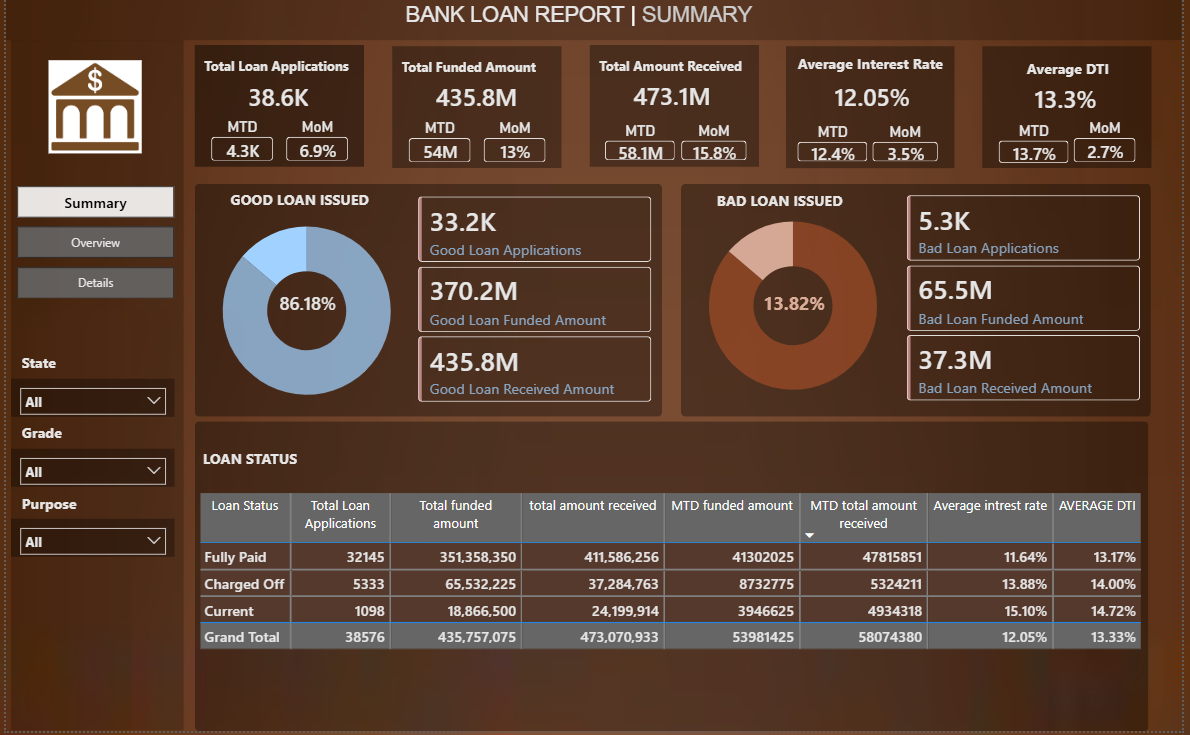

This screenshot's page, from the dashboard's own definition file:
{"tool":"powerbi","page":{"name":"Summary","canvas":[1311,821],"ordinal":0},"visuals":[{"type":"shape","box":[0,0,1311.3,50.6],"z":0},{"type":"shape","box":[5.6,50.6,192.5,770.2],"z":1000},{"type":"textbox","box":[441.3,0,446.9,60.4],"z":2000},{"type":"group","id":"g1","title":"Group 1","box":[210.8,56.2,189.7,136.3],"z":3000},{"type":"shape","box":[210.8,56.2,188.9,135.8],"z":3000,"group":"g1"},{"type":"shape","box":[650.7,56.2,188.9,135.8],"z":3000,"group":"g3"},{"type":"shape","box":[431.5,57.6,188.9,135.8],"z":3000,"group":"g2"},{"type":"shape","box":[870,57.6,188.3,136.3],"z":3000,"group":"g4"},{"type":"shape","box":[1089.2,57.6,188.9,135.8],"z":3000,"group":"g5"},{"type":"group","id":"g2","title":"Group 1","box":[431.5,57.6,188.3,136.3],"z":4000},{"type":"cardVisual","fields":{"Data":["bank_loan.total amount received"]},"box":[669.8,74.2,156,73.1],"z":4000,"group":"g3"},{"type":"cardVisual","fields":{"Data":["bank_loan.Total funded amount"]},"box":[450.6,75.6,156,73.1],"z":4000,"group":"g2"},{"type":"cardVisual","fields":{"Data":["bank_loan.Average intrest rate"]},"box":[895.3,76.4,156,73.1],"z":4000,"group":"g4"},{"type":"cardVisual","fields":{"Data":["bank_loan.AVERAGE DTI"]},"box":[1118.4,80.6,129.3,67.5],"z":4000,"group":"g5"},{"type":"cardVisual","fields":{"Data":["bank_loan.Total Loan Applications"]},"box":[241.3,81.1,129.3,61.8],"z":4000,"group":"g1"},{"type":"textbox","box":[874.1,60.1,179.9,32.3],"z":5000,"group":"g4"},{"type":"textbox","box":[216,64.2,179.9,32.3],"z":5000,"group":"g1"},{"type":"textbox","box":[655.9,64.2,179.9,32.3],"z":5000,"group":"g3"},{"type":"textbox","box":[436.7,65.6,179.9,32.3],"z":5000,"group":"g2"},{"type":"textbox","box":[1094.4,65.6,179.9,32.3],"z":5000,"group":"g5"},{"type":"shape","box":[210.8,210.8,521.4,260],"z":5000},{"type":"cardVisual","title":"MTD","fields":{"Data":["bank_loan.MTD Loan Applications"]},"box":[221.9,136.4,84,55.6],"z":6000,"group":"g1"},{"type":"cardVisual","title":"MTD","fields":{"Data":["bank_loan.MTD funded amount"]},"box":[442.6,137.8,84,55.6],"z":6000,"group":"g2"},{"type":"cardVisual","title":"MTD","fields":{"Data":["bank_loan.MTD AVG DTI"]},"box":[1100.1,141.1,92.8,53.4],"z":6000,"group":"g5"},{"type":"cardVisual","title":"MTD","fields":{"Data":["bank_loan.MTD total amount received"]},"box":[660.2,141.6,92.8,50.6],"z":6000,"group":"g3"},{"type":"cardVisual","title":"MTD","fields":{"Data":["bank_loan.MTD avg int rate"]},"box":[875.6,143,92.8,50.6],"z":6000,"group":"g4"},{"type":"textbox","box":[12.6,393.5,50.6,32.3],"z":6000},{"type":"cardVisual","title":"MoM","fields":{"Data":["bank_loan.MOM Loan Applications"]},"box":[305.9,136.4,84,55.6],"z":7000,"group":"g1"},{"type":"cardVisual","title":"MoM","fields":{"Data":["bank_loan.MOM total funded amount"]},"box":[526.6,137.8,84,55.6],"z":7000,"group":"g2"},{"type":"cardVisual","title":"MoM","fields":{"Data":["bank_loan.MOM avg DTI"]},"box":[1184.3,137.8,84,55.6],"z":7000,"group":"g5"},{"type":"cardVisual","title":"MoM","fields":{"Data":["bank_loan.MOM total amount received"]},"box":[746,141.6,87.1,50.6],"z":7000,"group":"g3"},{"type":"cardVisual","title":"MoM","fields":{"Data":["bank_loan.MOM avg intrest rate"]},"box":[959.9,143,87.1,50.6],"z":7000,"group":"g4"},{"type":"cardVisual","fields":{"Data":["bank_loan.Good Loan %"]},"box":[275.5,305,156,73.1],"z":7000},{"type":"textbox","box":[246,212.2,179.9,32.3],"z":8000},{"type":"group","id":"g3","title":"Group 1","box":[650.7,56.2,188.3,136.3],"z":9000},{"type":"group","id":"g4","title":"Group 1","box":[870,57.6,188.3,136.3],"z":10000},{"type":"group","id":"g5","title":"Group 1","box":[1089.2,57.6,188.9,136.9],"z":11000},{"type":"shape","box":[753.3,210.8,524.2,260],"z":12000},{"type":"donutChart","fields":{"Category":["bank_loan.Good vs Bad Loan"],"Y":["bank_loan.Total Loan Applications"]},"box":[210.8,230.5,250.2,244.5],"z":13000},{"type":"cardVisual","fields":{"Data":["bank_loan.Good Loan Applications","bank_loan.Good Funded Amount","bank_loan.Good Loan Received Amount"]},"box":[451.1,212.2,281.1,257.2],"z":14000},{"type":"donutChart","fields":{"Category":["bank_loan.Good vs Bad Loan"],"Y":["bank_loan.Total Loan Applications"]},"box":[753.3,224.9,250.2,244.5],"z":15000},{"type":"textbox","box":[788.5,213.6,179.9,32.3],"z":16000},{"type":"cardVisual","fields":{"Data":["bank_loan.Bad Loan %"]},"box":[815.2,305,144.8,73.1],"z":17000},{"type":"cardVisual","fields":{"Data":["bank_loan.Bad Loan Applications","bank_loan.Bad Loan Funded Amount","bank_loan.Bad Loan Received Amount"]},"box":[996.5,210.8,281.1,257.2],"z":18000},{"type":"shape","box":[210.8,475,1063.9,345.7],"z":19000},{"type":"tableEx","fields":{"Values":["bank_loan.loan_status","bank_loan.Total Loan Applications","bank_loan.Total funded amount","bank_loan.total amount received","bank_loan.MTD funded amount","bank_loan.MTD total amount received","bank_loan.Average intrest rate","bank_loan.AVERAGE DTI"]},"box":[210.8,550.9,1063.9,269.8],"z":20000},{"type":"textbox","box":[215,500.3,179.9,32.3],"z":21000},{"type":"slicer","fields":{"Values":["bank_loan.address_state"]},"box":[5.6,427.8,182.7,42.2],"z":22000},{"type":"slicer","fields":{"Values":["bank_loan.grade"]},"box":[5.6,506.2,182.7,42.2],"z":23000},{"type":"textbox","box":[12.6,472,68.9,32.3],"z":24000},{"type":"slicer","fields":{"Values":["bank_loan.purpose"]},"box":[5.6,584.7,182.7,42.2],"z":25000},{"type":"textbox","box":[12.6,550.4,89.9,32.3],"z":26000},{"type":"image","box":[47.8,66.1,104,118.1],"z":27000},{"type":"pageNavigator","box":[12.6,213.6,175.7,126.5],"z":28000}]}

Visuals, with their boxes in screenshot pixels (x1, y1, x2, y2), scaled from the page's 1311x821 canvas onto the 1190x735 screenshot:
shape: rect(0, 0, 1189, 45)
shape: rect(5, 45, 180, 734)
textbox: rect(401, 0, 806, 54)
"Group 1" group: rect(191, 50, 364, 172)
shape: rect(191, 50, 363, 172)
shape: rect(591, 50, 762, 172)
shape: rect(392, 52, 563, 173)
shape: rect(790, 52, 961, 174)
shape: rect(989, 52, 1160, 173)
"Group 1" group: rect(392, 52, 563, 174)
cardVisual - bank_loan.total amount received: rect(608, 66, 750, 132)
cardVisual - bank_loan.Total funded amount: rect(409, 68, 551, 133)
cardVisual - bank_loan.Average intrest rate: rect(813, 68, 954, 134)
cardVisual - bank_loan.AVERAGE DTI: rect(1015, 72, 1133, 133)
cardVisual - bank_loan.Total Loan Applications: rect(219, 73, 336, 128)
textbox: rect(793, 54, 957, 83)
textbox: rect(196, 57, 359, 86)
textbox: rect(595, 57, 759, 86)
textbox: rect(396, 59, 560, 88)
textbox: rect(993, 59, 1157, 88)
shape: rect(191, 189, 665, 421)
"MTD" cardVisual: rect(201, 122, 278, 172)
"MTD" cardVisual: rect(402, 123, 478, 173)
"MTD" cardVisual: rect(999, 126, 1083, 174)
"MTD" cardVisual: rect(599, 127, 684, 172)
"MTD" cardVisual: rect(795, 128, 879, 173)
textbox: rect(11, 352, 57, 381)
"MoM" cardVisual: rect(278, 122, 354, 172)
"MoM" cardVisual: rect(478, 123, 554, 173)
"MoM" cardVisual: rect(1075, 123, 1151, 173)
"MoM" cardVisual: rect(677, 127, 756, 172)
"MoM" cardVisual: rect(871, 128, 950, 173)
cardVisual - bank_loan.Good Loan %: rect(250, 273, 392, 338)
textbox: rect(223, 190, 387, 219)
"Group 1" group: rect(591, 50, 762, 172)
"Group 1" group: rect(790, 52, 961, 174)
"Group 1" group: rect(989, 52, 1160, 174)
shape: rect(684, 189, 1160, 421)
donutChart - bank_loan.Good vs Bad Loan x bank_loan.Total Loan Applications: rect(191, 206, 418, 425)
cardVisual - bank_loan.Good Loan Applications x bank_loan.Good Funded Amount: rect(409, 190, 665, 420)
donutChart - bank_loan.Good vs Bad Loan x bank_loan.Total Loan Applications: rect(684, 201, 911, 420)
textbox: rect(716, 191, 879, 220)
cardVisual - bank_loan.Bad Loan %: rect(740, 273, 871, 338)
cardVisual - bank_loan.Bad Loan Applications x bank_loan.Bad Loan Funded Amount: rect(905, 189, 1160, 419)
shape: rect(191, 425, 1157, 734)
tableEx - bank_loan.loan_status x bank_loan.Total Loan Applications: rect(191, 493, 1157, 734)
textbox: rect(195, 448, 358, 477)
slicer - bank_loan.address_state: rect(5, 383, 171, 421)
slicer - bank_loan.grade: rect(5, 453, 171, 491)
textbox: rect(11, 423, 74, 451)
slicer - bank_loan.purpose: rect(5, 523, 171, 561)
textbox: rect(11, 493, 93, 522)
image: rect(43, 59, 138, 165)
pageNavigator: rect(11, 191, 171, 304)
